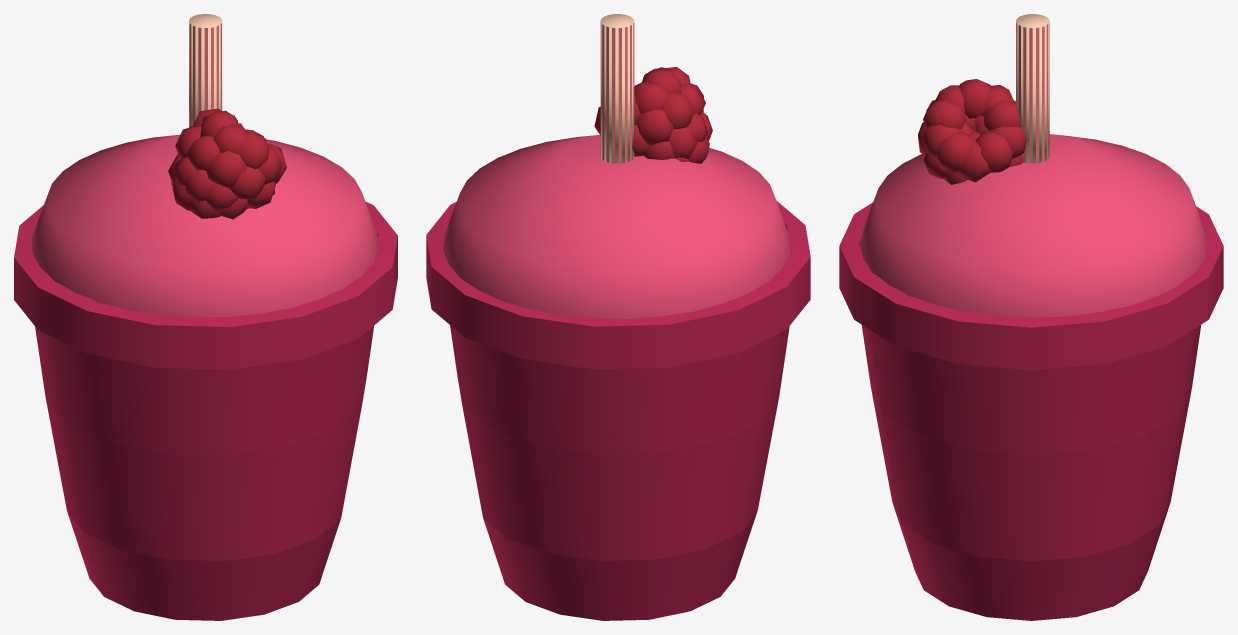
Rendered from shake-malina.gltf.
3 views of the same model, side by side, from view 1: azimuth 30°, elevation 25°; view 2: azimuth 150°, elevation 25°; view 3: azimuth 270°, elevation 25° (orthographic).
Visible parts, largest first — view 1: Cylinder, Cylinder.001, Icosphere.002, Cylinder.002; view 2: Cylinder, Cylinder.001, Icosphere.002, Cylinder.002; view 3: Cylinder, Cylinder.001, Icosphere.002, Cylinder.002.
Boxes of the visible parts, x1=… form: Cylinder: x1=14, y1=201, x2=397, y2=620; Cylinder.001: x1=31, y1=134, x2=378, y2=317; Icosphere.002: x1=168, y1=108, x2=286, y2=219; Cylinder.002: x1=189, y1=14, x2=222, y2=126; Cylinder: x1=426, y1=200, x2=810, y2=620; Cylinder.001: x1=443, y1=135, x2=790, y2=318; Icosphere.002: x1=594, y1=67, x2=712, y2=163; Cylinder.002: x1=600, y1=14, x2=634, y2=163; Cylinder: x1=839, y1=202, x2=1223, y2=620; Cylinder.001: x1=859, y1=134, x2=1207, y2=317; Icosphere.002: x1=918, y1=79, x2=1026, y2=184; Cylinder.002: x1=1016, y1=14, x2=1049, y2=163.
Size of the model in its own units: 1.37 by 2.21 by 1.36.
1 material, 1 textured.
